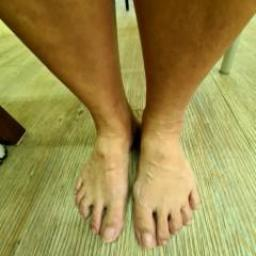Front View -Both Feet-: (47, 87, 219, 252)
